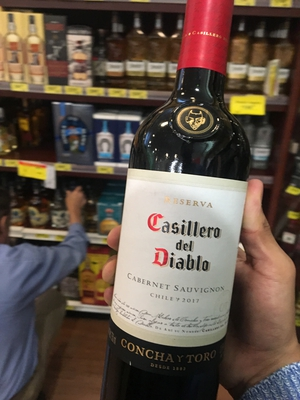casillero del diablo cabernet sauvignon: (110, 12, 262, 400)
